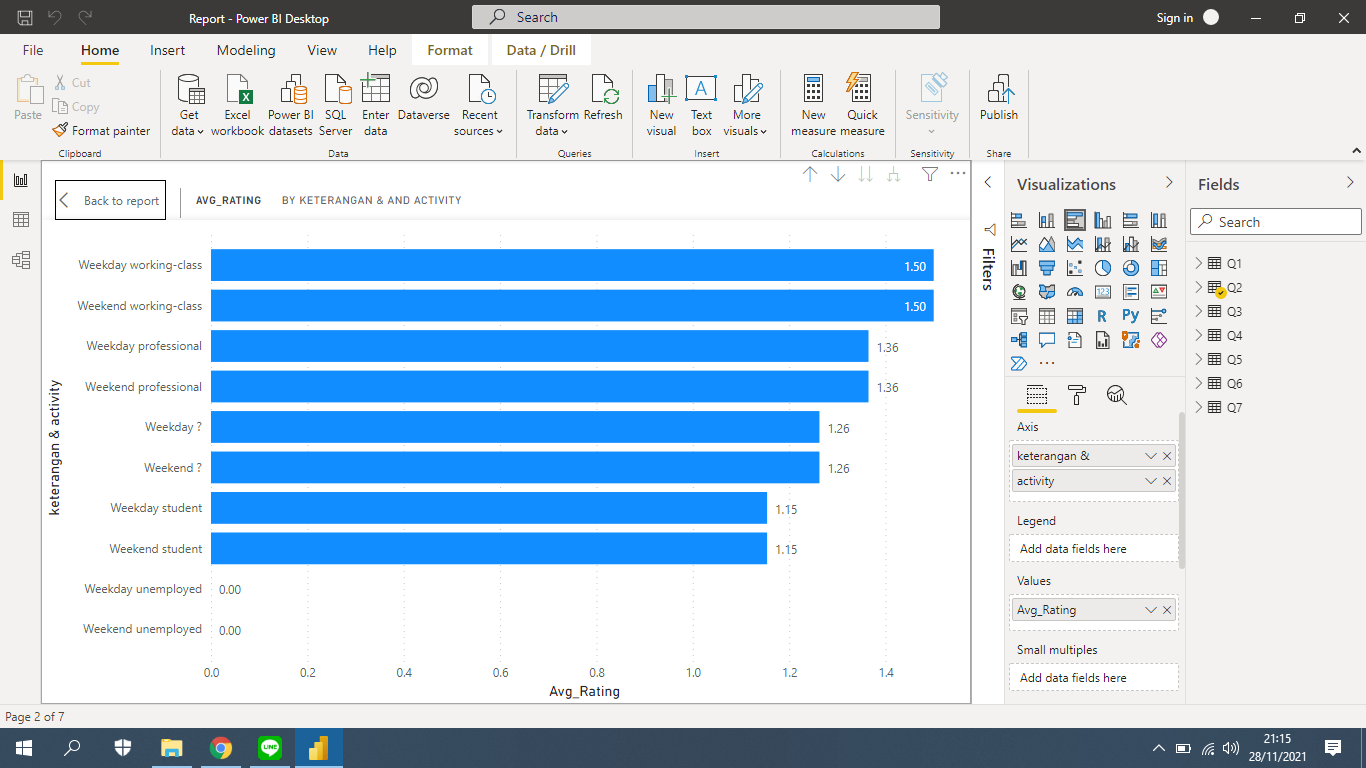

What the dashboard file says about the page in this screenshot:
{"tool":"powerbi","page":{"name":"Q2","canvas":[1280,720],"ordinal":1},"visuals":[{"type":"clusteredBarChart","fields":{"Category":["Q2.keterangan","Q2.activity"],"Y":["Avg(Q2.avg_rating)"]},"box":[60.5,80.6,809.7,408.2],"z":0}]}

Visuals, with their boxes on the page's 1280x720 design canvas (x1, y1, x2, y2). These are canvas units, not pixel positions in the 1366x768 screenshot, which may show the page scaled, cropped or inside an application window:
clusteredBarChart - Q2.keterangan x Q2.activity: BBox(60, 81, 870, 489)
